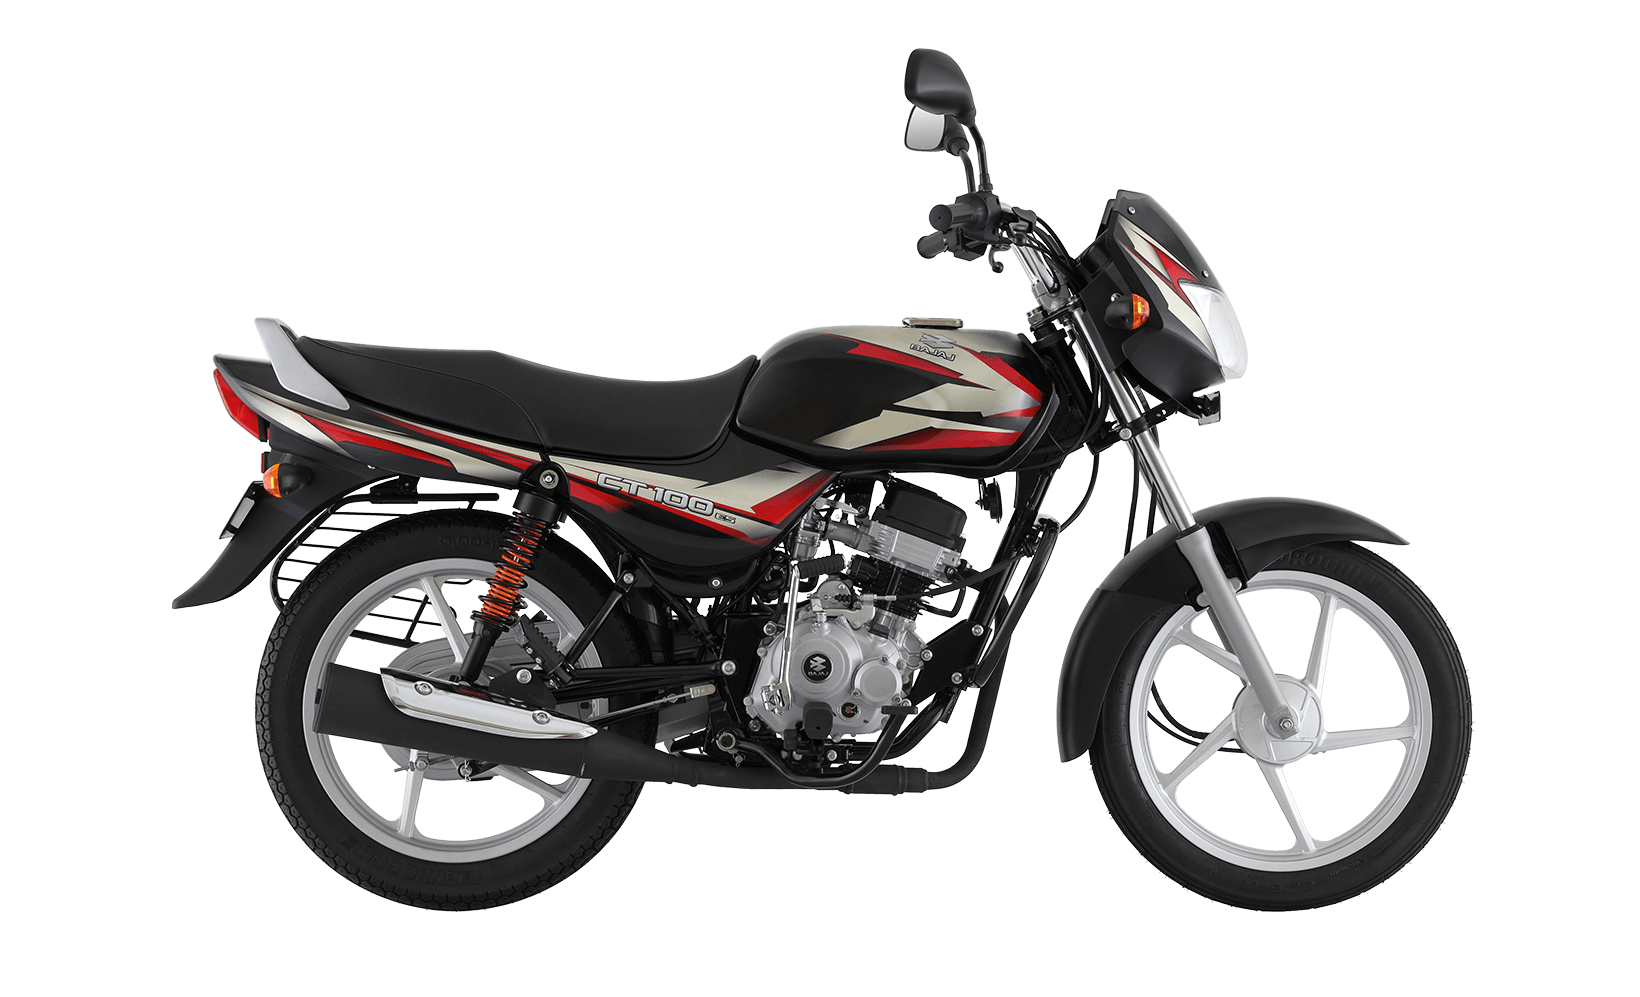motorbike: (171, 47, 1470, 911)
